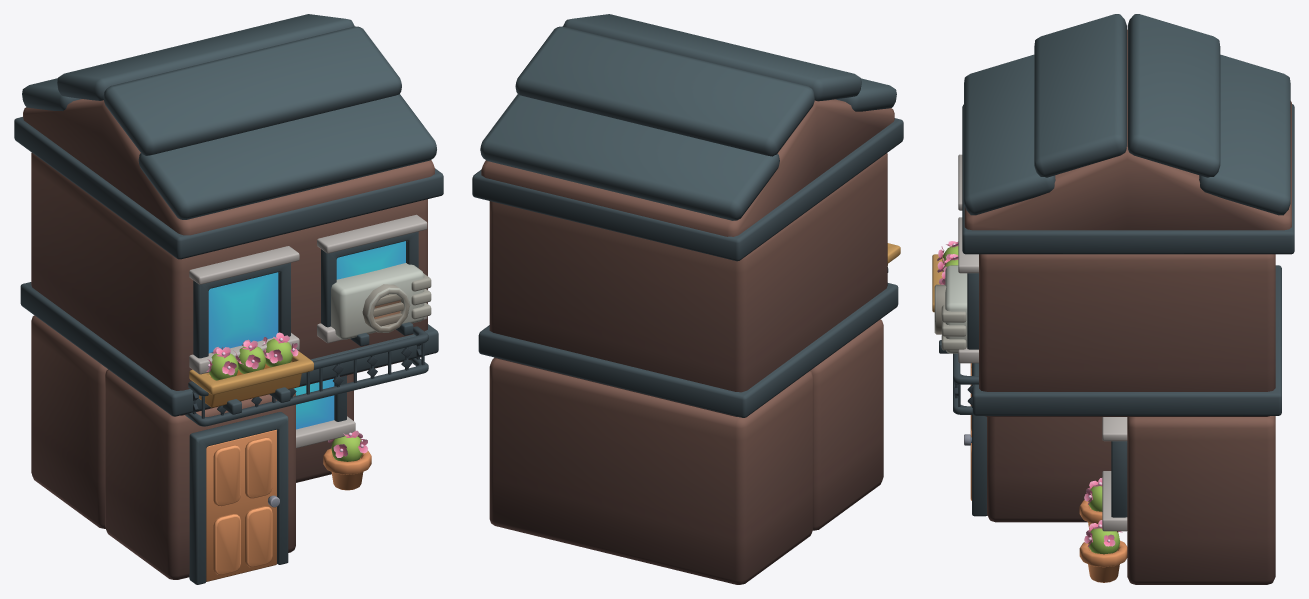
The model's file is mct_build_full_house07.fbx.
3 renders of one model, left to right at view 1: azimuth 30°, elevation 25°; view 2: azimuth 150°, elevation 25°; view 3: azimuth 270°, elevation 25°, orthographic.
Parts seen in each view (by area): view 1: mct_build_full_house_07, mct_door.007; view 2: mct_build_full_house_07; view 3: mct_build_full_house_07.
Part boxes in pixels (bbox=[...]): mct_build_full_house_07: bbox=[14, 14, 443, 584]; mct_door.007: bbox=[206, 429, 279, 581]; mct_build_full_house_07: bbox=[472, 14, 903, 584]; mct_build_full_house_07: bbox=[932, 14, 1294, 584].
Size of the model in its own units: 417 by 672 by 489.
